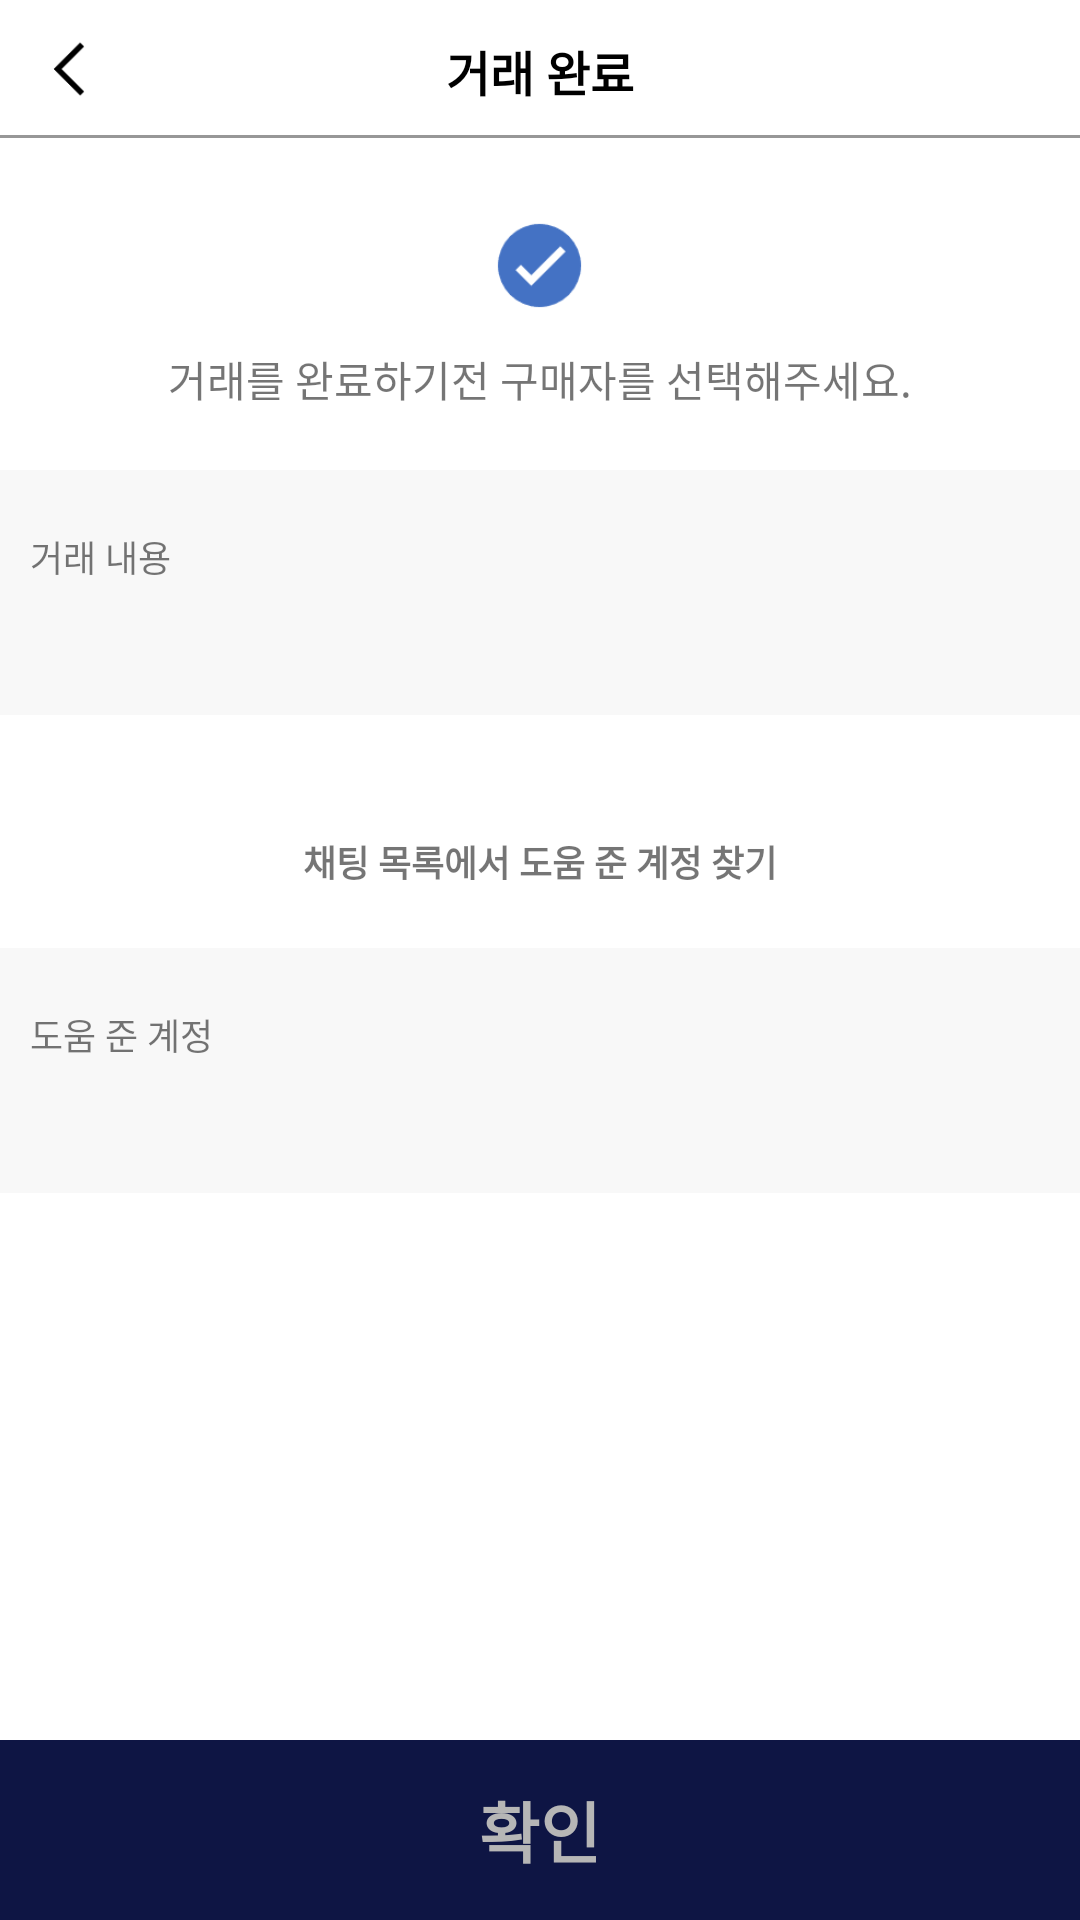

Screen size 1080×1920. Icon name, then its box in pixels as (x1, y1, x2, y2):
go to back: (54, 42, 84, 96)
